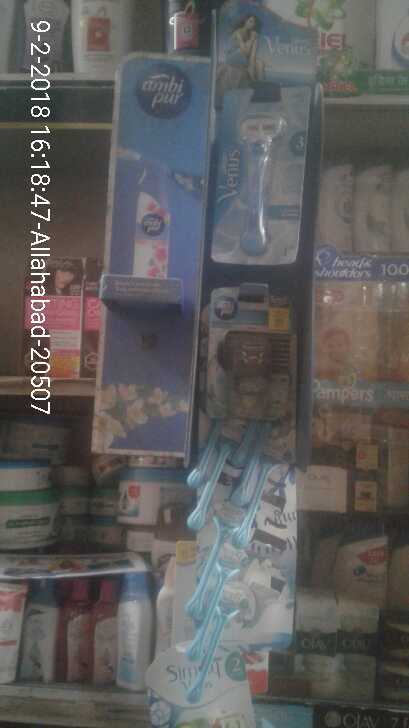beauty: (215, 79, 308, 273)
home: (205, 288, 293, 417)
